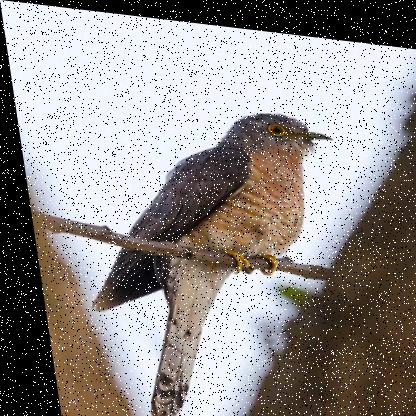Burung: (58, 87, 368, 415)
